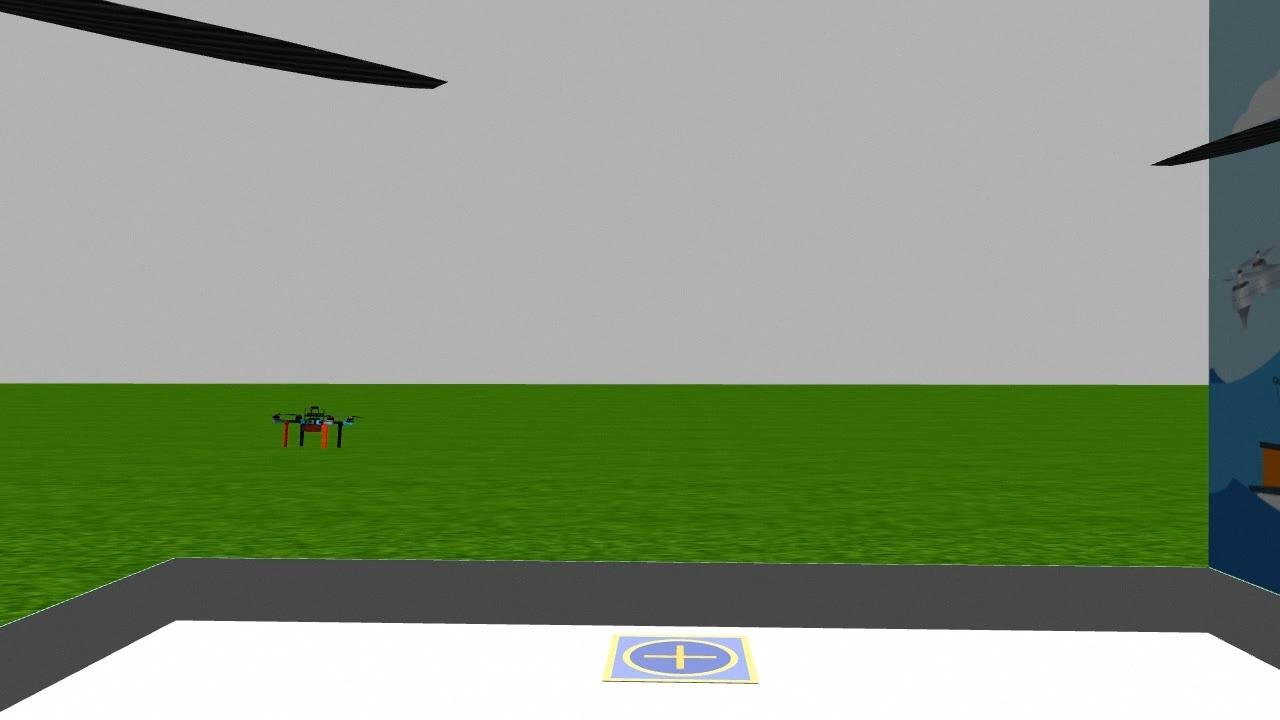UAV: (270, 397, 360, 456)
